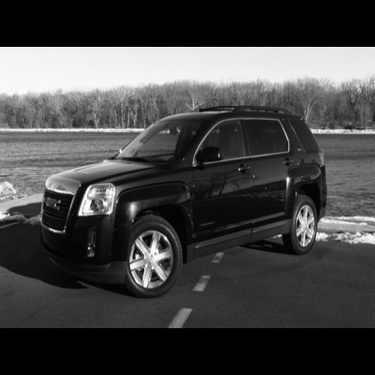car: (21, 85, 352, 284)
